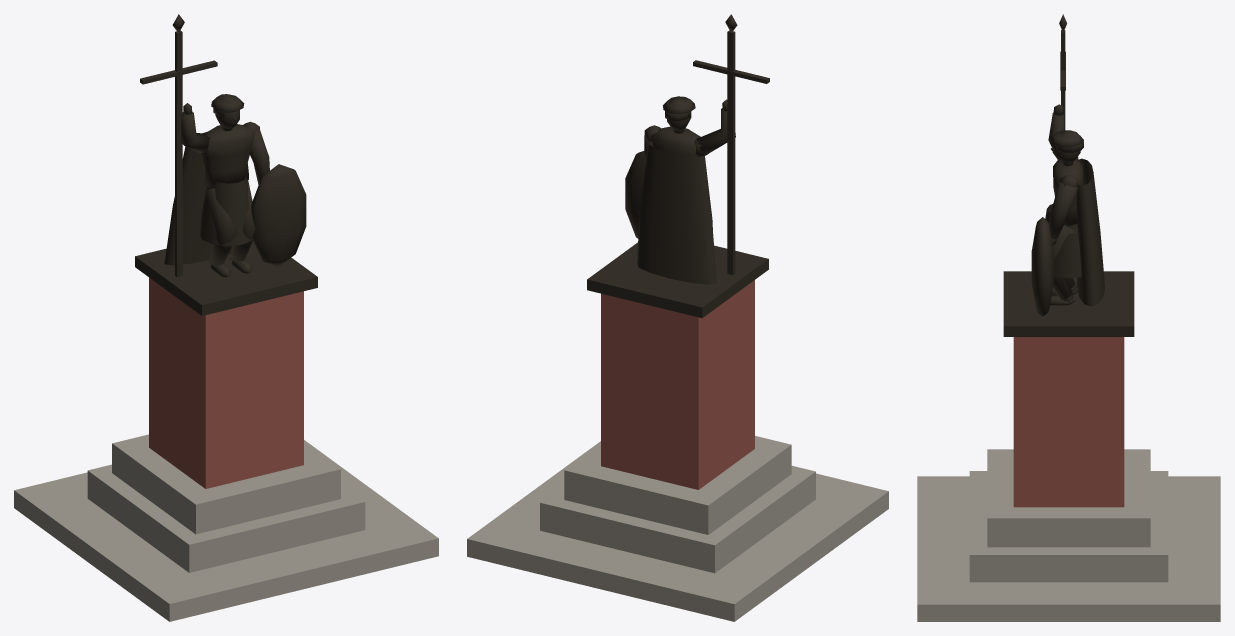
Rendered from vladimir_hersones.lod.glb.
The picture shows the model from 3 angles, left to right: view 1: azimuth 30°, elevation 25°; view 2: azimuth 150°, elevation 25°; view 3: azimuth 270°, elevation 25°; orthographic projection. The views are drawn at different scales.
Parts seen in each view (by area): view 1: vladimir_hersones_stone, vladimir_hersones_wall2, vladimir_hersones_wall3; view 2: vladimir_hersones_stone, vladimir_hersones_wall2, vladimir_hersones_wall3; view 3: vladimir_hersones_stone, vladimir_hersones_wall2, vladimir_hersones_wall3.
Part boxes in pixels (x1,y1,x2,y2): vladimir_hersones_stone: (14, 434, 438, 621); vladimir_hersones_wall2: (149, 277, 303, 488); vladimir_hersones_wall3: (135, 14, 317, 315); vladimir_hersones_stone: (467, 436, 888, 621); vladimir_hersones_wall2: (601, 280, 754, 489); vladimir_hersones_wall3: (587, 14, 769, 318); vladimir_hersones_stone: (917, 449, 1220, 621); vladimir_hersones_wall2: (1013, 337, 1124, 507); vladimir_hersones_wall3: (1003, 14, 1134, 336).
Size of the model in its own units: 5.2 by 9.83 by 5.2.
